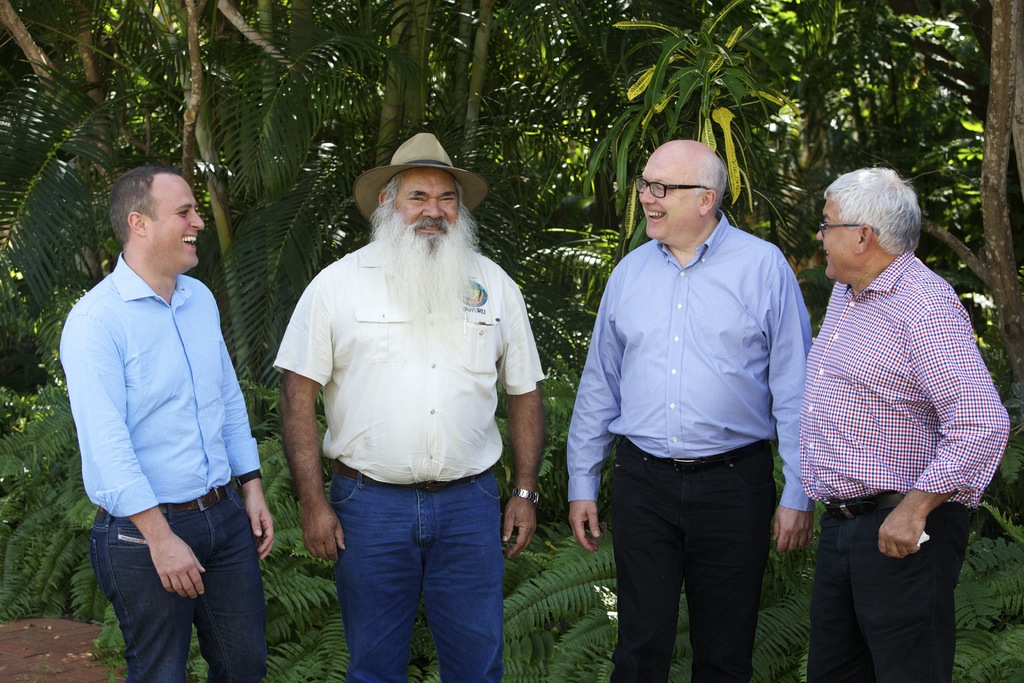face: (817, 193, 865, 274)
